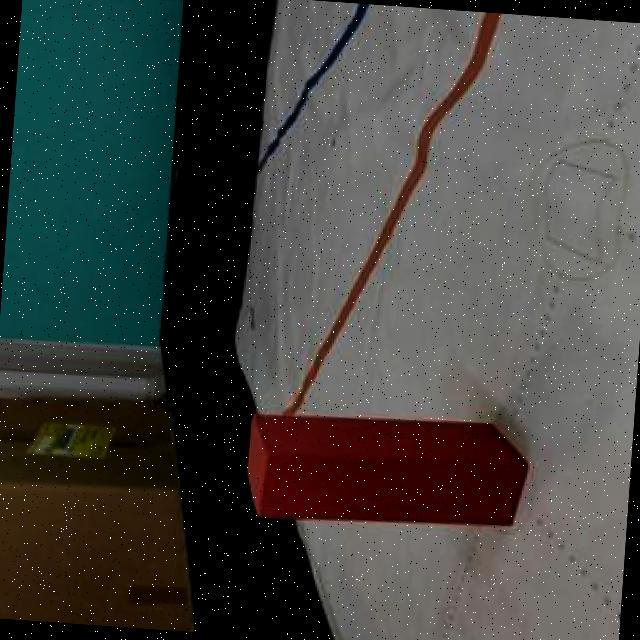redbox: (241, 404, 530, 538)
